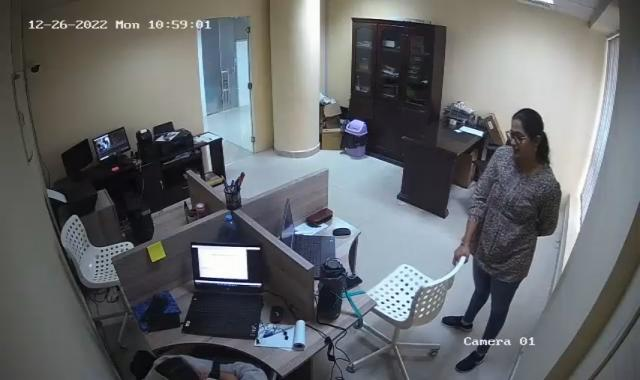no_hairnet: (505, 108, 545, 166), (144, 355, 210, 380)
